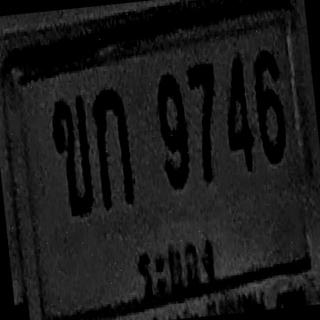A01: (90, 86, 135, 209)
A02: (49, 94, 95, 218)
N04: (220, 54, 256, 172)
N06: (251, 48, 288, 164)
N07: (186, 61, 224, 183)
N09: (154, 71, 192, 188)
P53: (131, 231, 224, 304)
